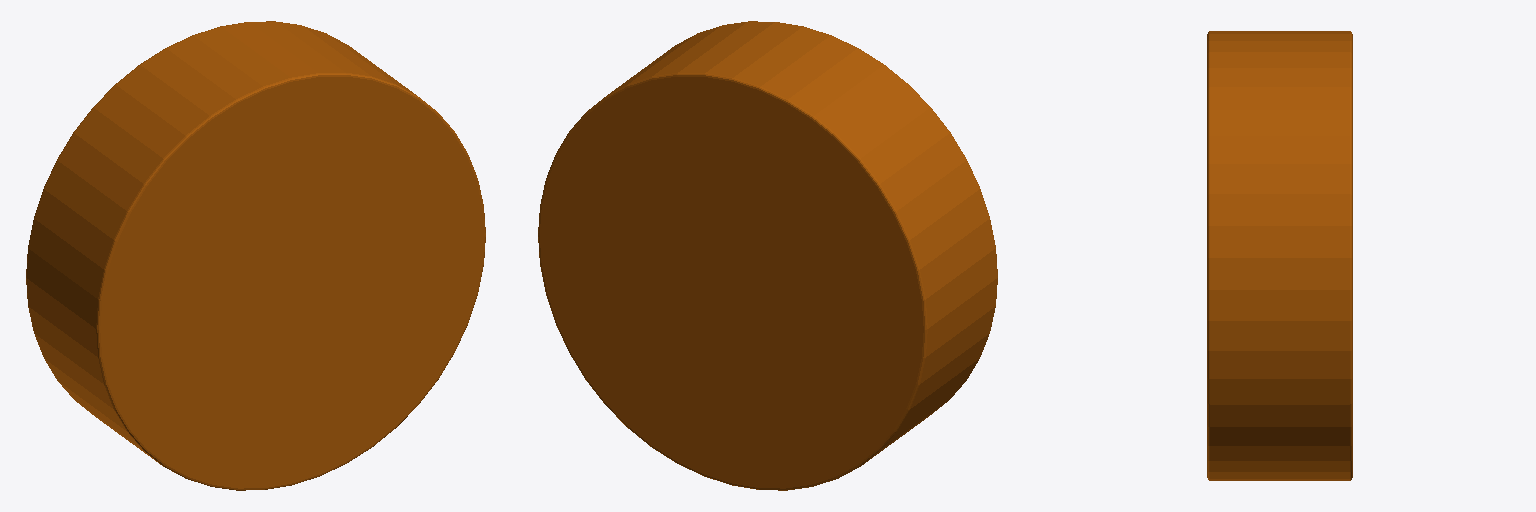
3 renders of one model, left to right at view 1: azimuth 30°, elevation 25°; view 2: azimuth 150°, elevation 25°; view 3: azimuth 270°, elevation 25°, orthographic.
Visible parts, largest first — view 1: Gallotti_Radice_Tip_Tap_Toe.001; view 2: Gallotti_Radice_Tip_Tap_Toe.001; view 3: Gallotti_Radice_Tip_Tap_Toe.001.
Boxes of the visible parts, box(x1,y1,x2,y2) form: Gallotti_Radice_Tip_Tap_Toe.001: box(26, 21, 485, 490); Gallotti_Radice_Tip_Tap_Toe.001: box(538, 21, 997, 490); Gallotti_Radice_Tip_Tap_Toe.001: box(1207, 31, 1352, 480).
Size of the model in its own units: 4.65 by 4.65 by 1.5.